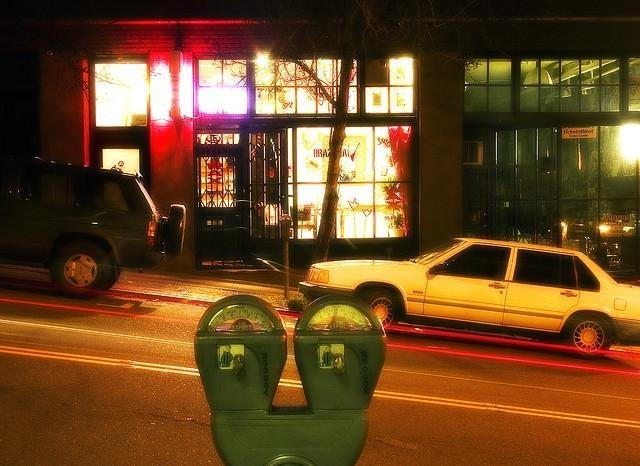car: (291, 236, 640, 345), (2, 155, 185, 302)
